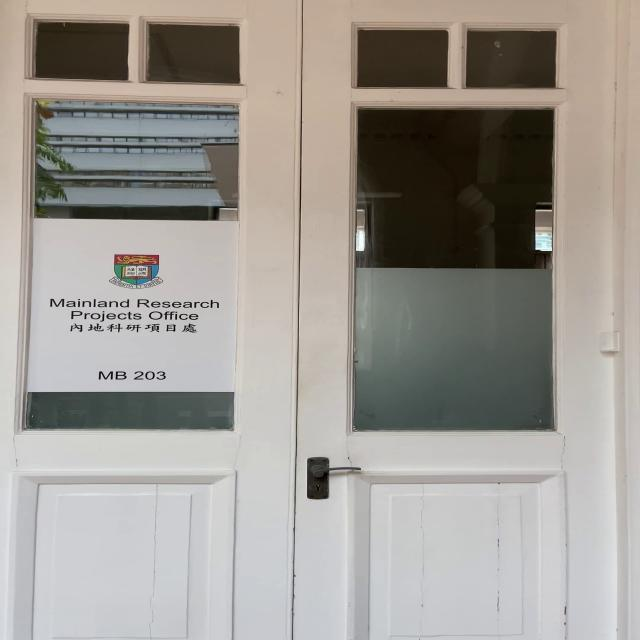room203Window: (90, 365, 178, 385)
